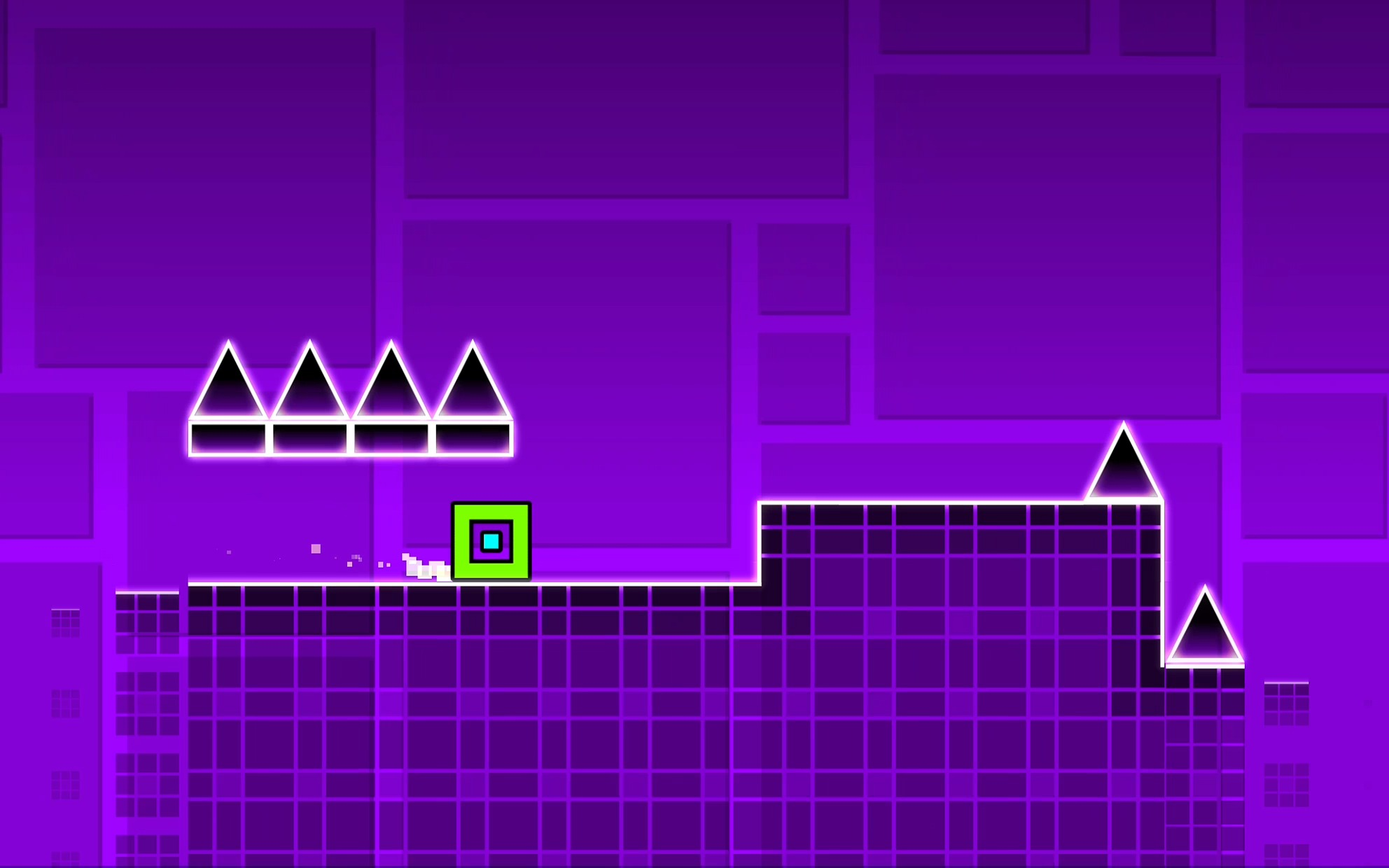Block2: (106, 588, 759, 858), (762, 508, 1163, 868), (1165, 676, 1310, 868)
Block3: (433, 419, 516, 460), (353, 421, 431, 458), (190, 421, 271, 456), (270, 424, 344, 452)
Player: (449, 501, 530, 579)
Spike: (1085, 421, 1164, 502), (1164, 586, 1242, 666), (190, 340, 264, 419), (435, 340, 511, 416), (273, 340, 348, 416), (354, 342, 427, 416)
